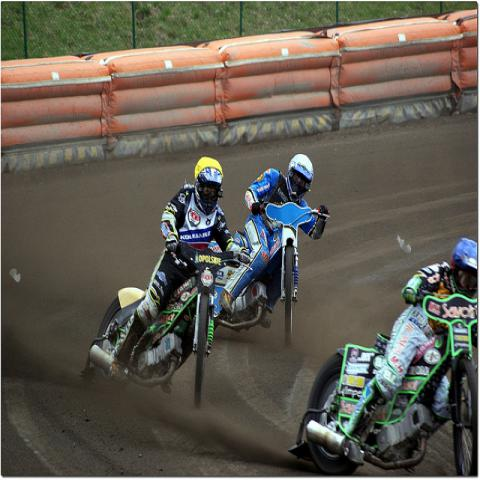motorcycle: (286, 289, 478, 474), (90, 242, 250, 407), (223, 198, 328, 342)
